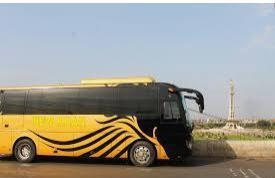bus: (0, 78, 204, 167)
